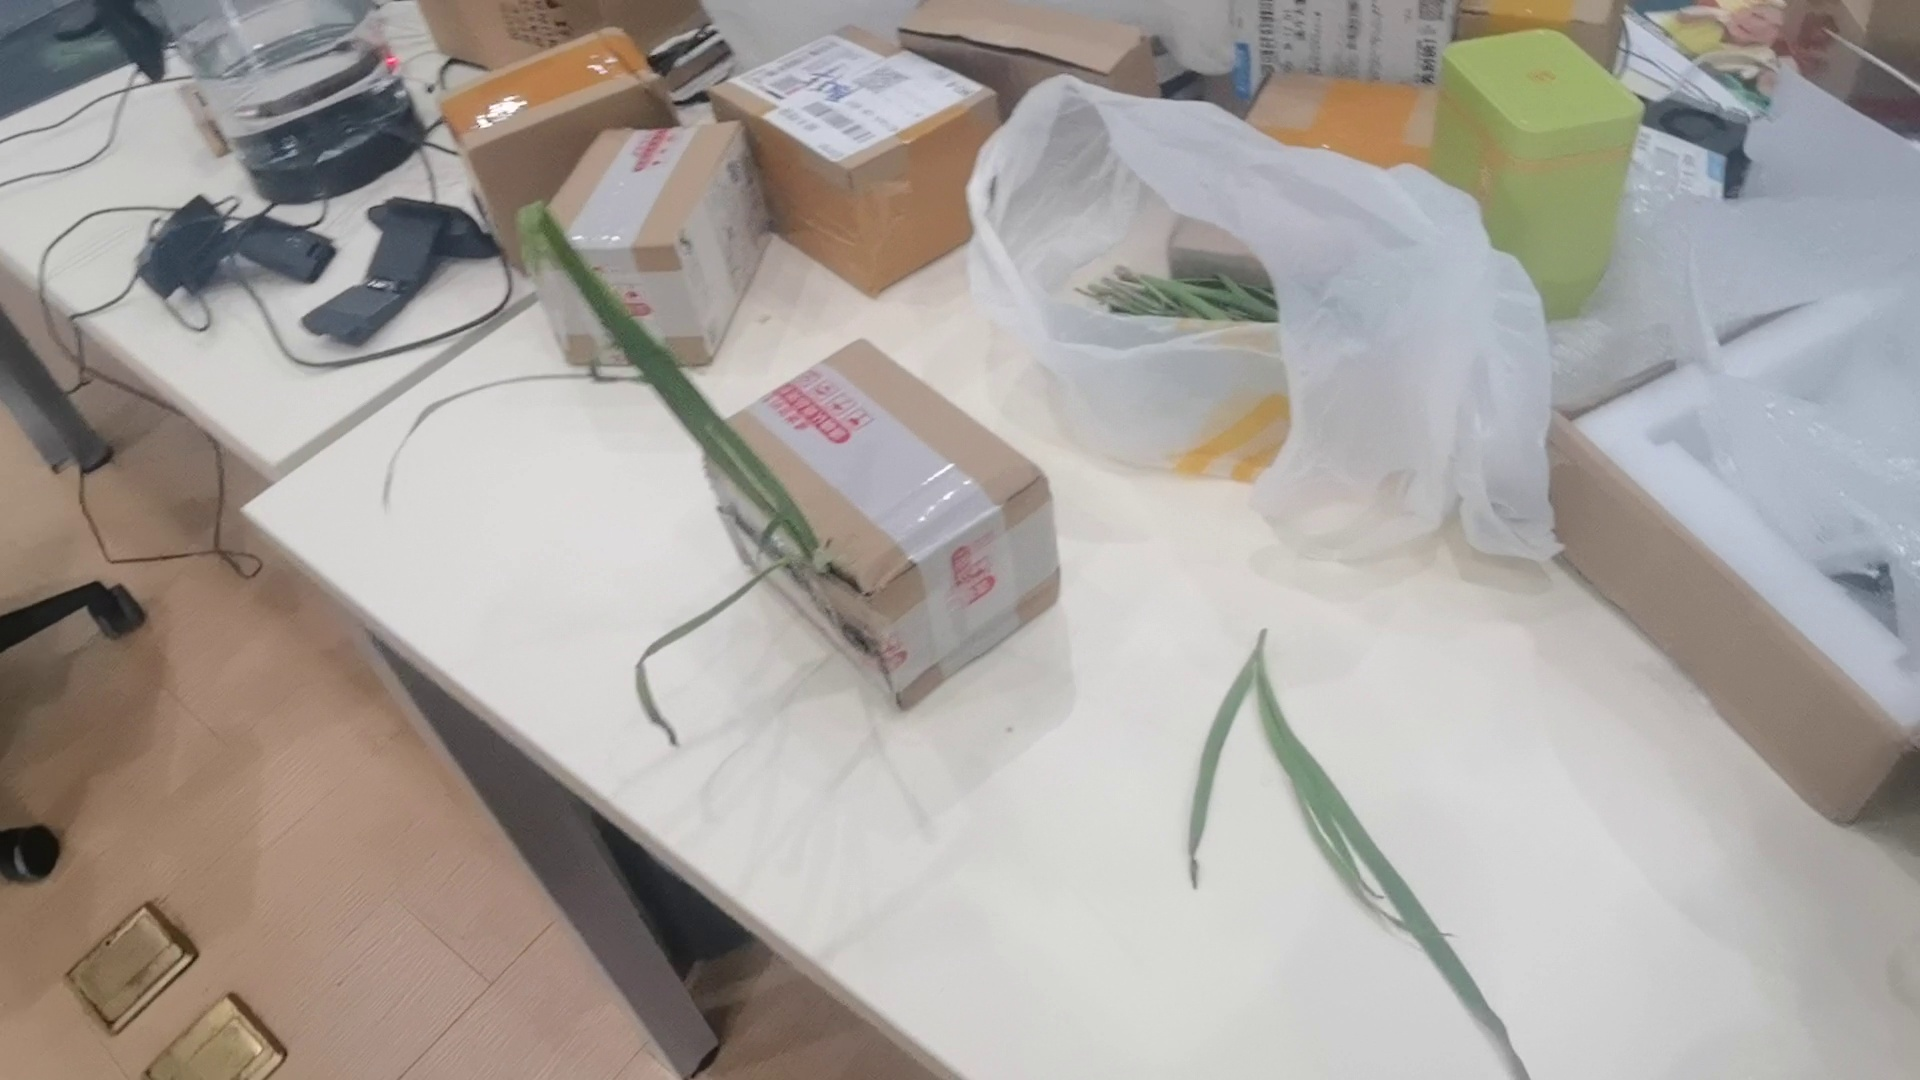chives: (376, 198, 884, 727), (1139, 608, 1556, 1080)
